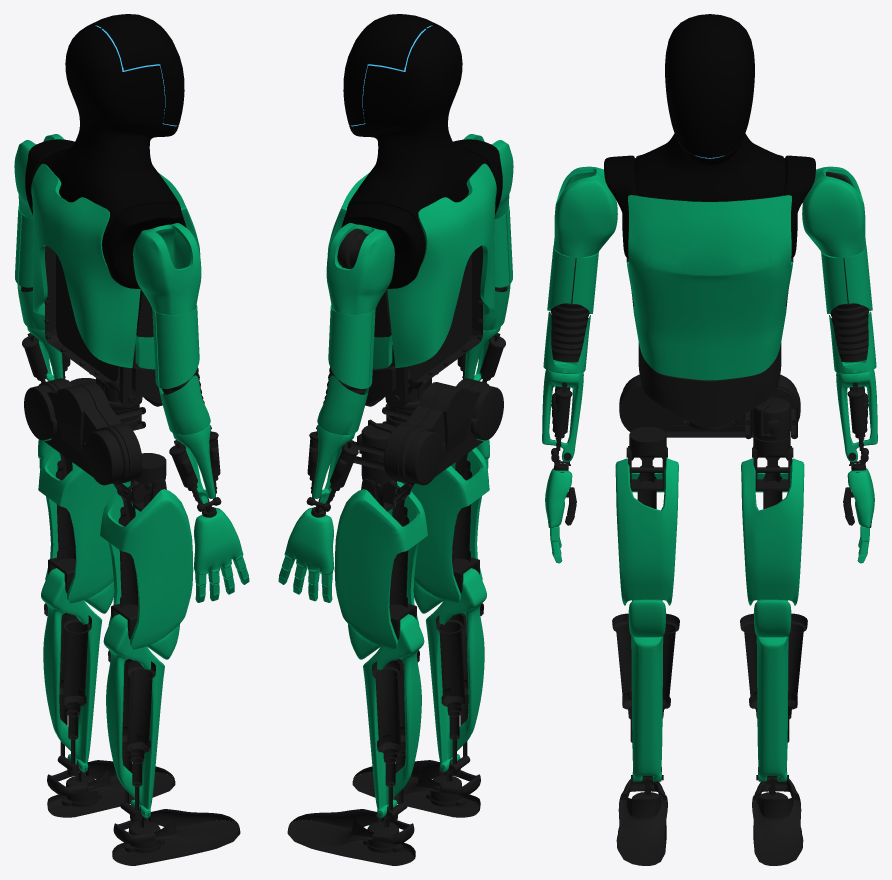
The model's file is trader.glb.
3 renders of one model, left to right at view 1: azimuth 30°, elevation 25°; view 2: azimuth 150°, elevation 25°; view 3: azimuth 270°, elevation 25°, orthographic.
Parts seen in each view (by area): view 1: Cube.001; view 2: Cube.001; view 3: Cube.001.
Part boxes in pixels (x1,y1,x2,y2): Cube.001: (14,14,249,865); Cube.001: (278,14,513,865); Cube.001: (542,14,877,865).
Size of the model in its own units: 0.3406 by 1.7 by 0.6396.
